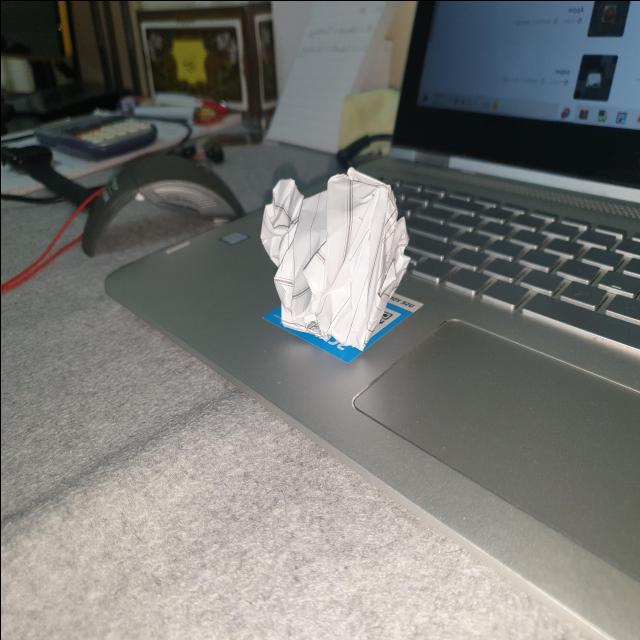kertas: (252, 162, 414, 363)
